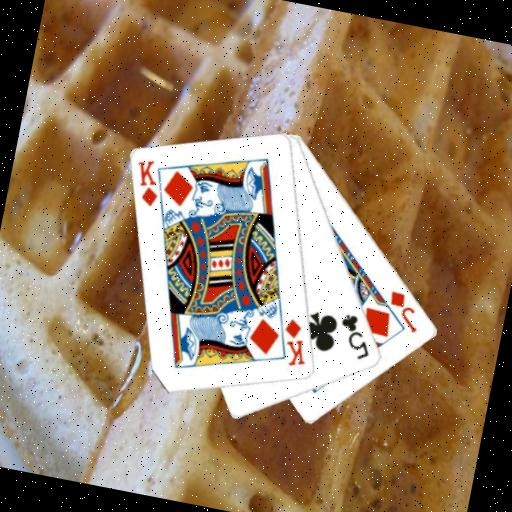5C: (332, 310, 379, 364)
JD: (382, 287, 426, 335)
KD: (275, 314, 316, 371), (128, 155, 167, 210)
